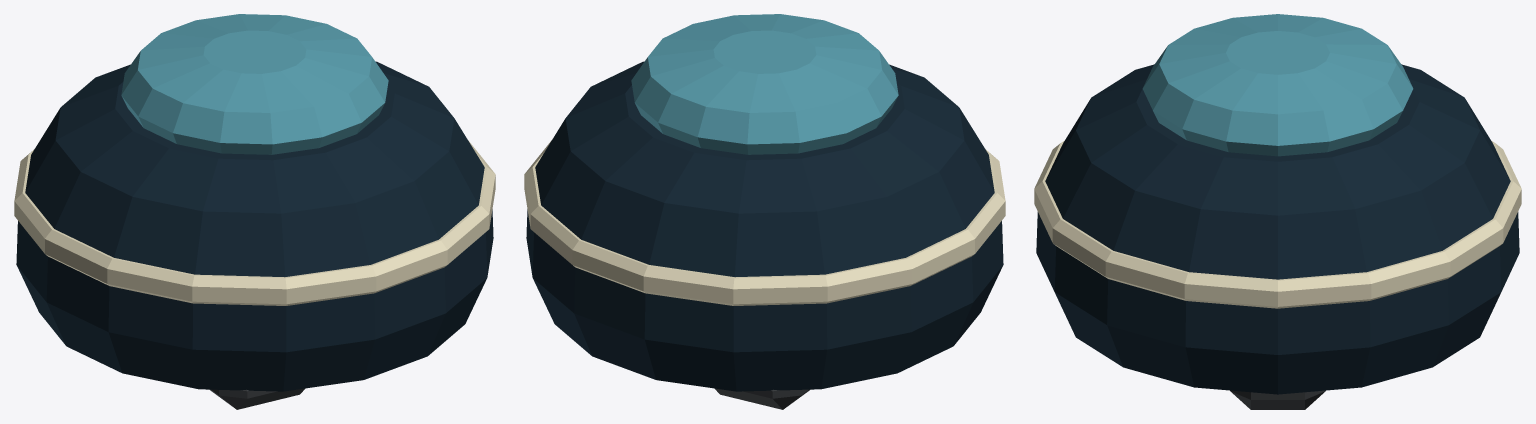
The model's file is TOURNAMENT_MINE.lo.glb.
The picture shows the model from 3 angles, left to right: view 1: azimuth 30°, elevation 25°; view 2: azimuth 150°, elevation 25°; view 3: azimuth 270°, elevation 25°; orthographic projection.
Visible parts, largest first — view 1: Body_Mesh; view 2: Body_Mesh; view 3: Body_Mesh.
Boxes of the visible parts, box(x1,y1,x2,y2) form: Body_Mesh: box(14, 14, 495, 409); Body_Mesh: box(524, 14, 1005, 409); Body_Mesh: box(1034, 14, 1521, 409).
Bounding box in the file's own units: 0.234 × 0.146 × 0.234.
Materials: 1 (1 with a texture image).
